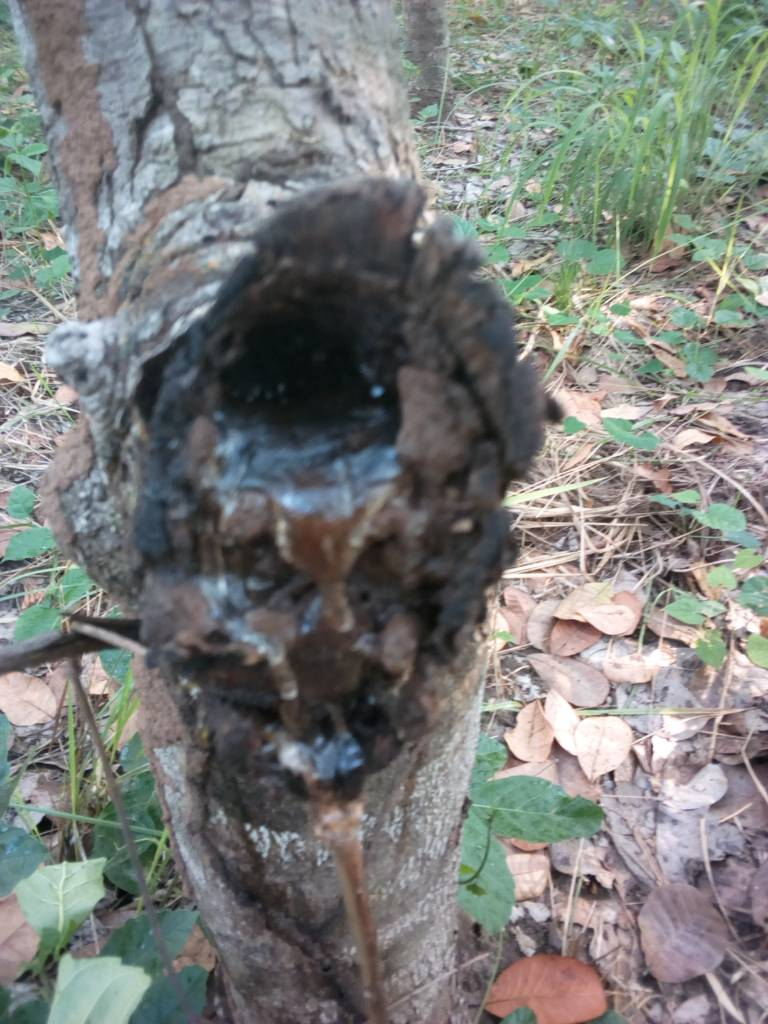Termites: (38, 1, 129, 317)
